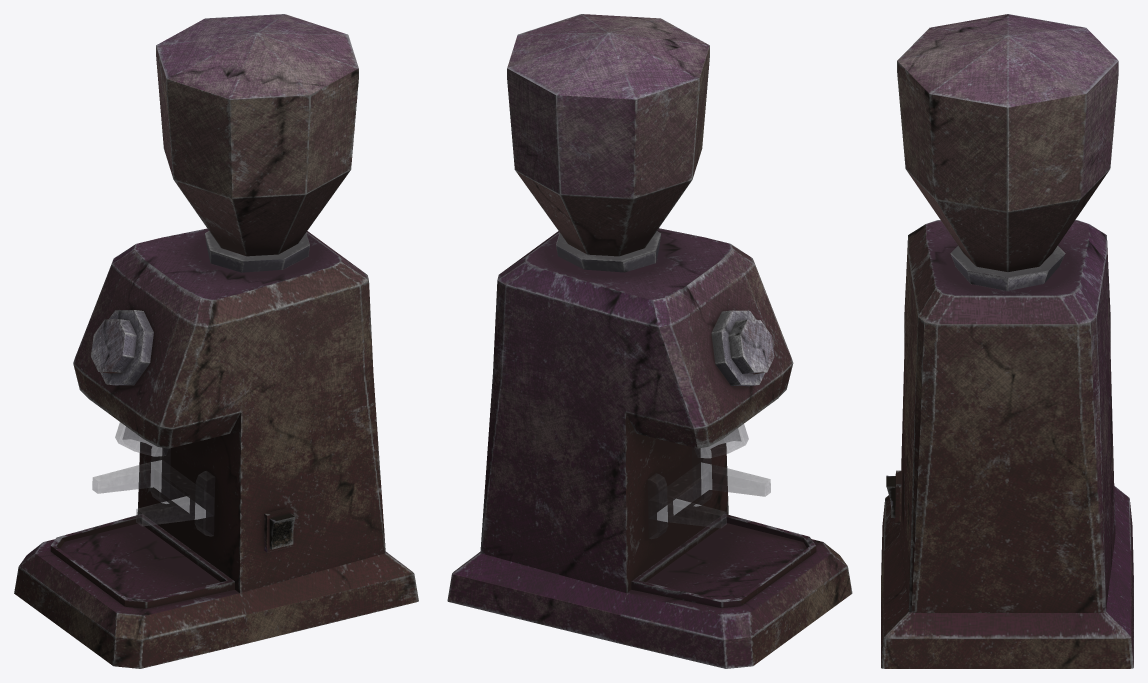
File: MolinoCafe_Limpio.glb
The picture shows the model from 3 angles, left to right: view 1: azimuth 30°, elevation 25°; view 2: azimuth 150°, elevation 25°; view 3: azimuth 270°, elevation 25°; orthographic projection. The views are drawn at different scales.
Parts seen in each view (by area): view 1: Molino_Cuerpo, Molino_Horquilla, Molino_Boquilla; view 2: Molino_Cuerpo, Molino_Horquilla, Molino_Boquilla; view 3: Molino_Cuerpo.
Boxes of the visible parts, x1,y1,x2,y2 form: Molino_Cuerpo: [14, 14, 418, 668]; Molino_Horquilla: [92, 447, 214, 536]; Molino_Boquilla: [115, 422, 168, 456]; Molino_Cuerpo: [447, 14, 852, 668]; Molino_Horquilla: [648, 447, 770, 538]; Molino_Boquilla: [694, 424, 748, 457]; Molino_Cuerpo: [881, 14, 1133, 668].
Bounding box in the file's own units: 0.3231 × 0.5719 × 0.2258.
Materials: 2 (2 with a texture image).
